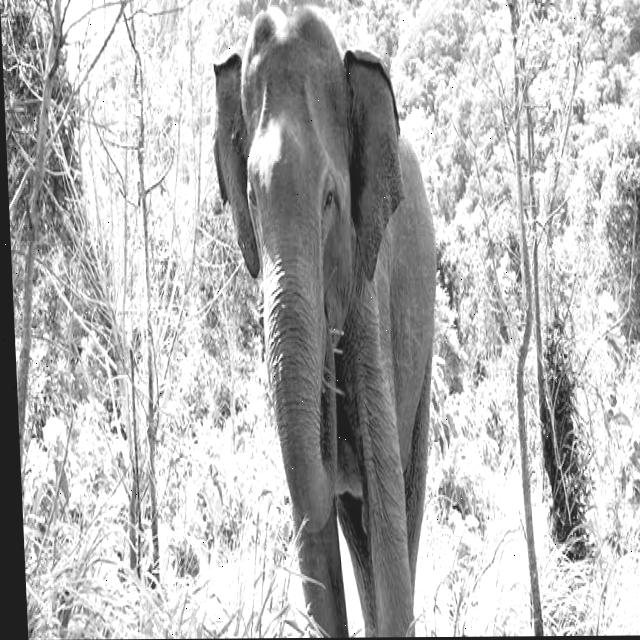Elephant: (205, 2, 453, 637)
